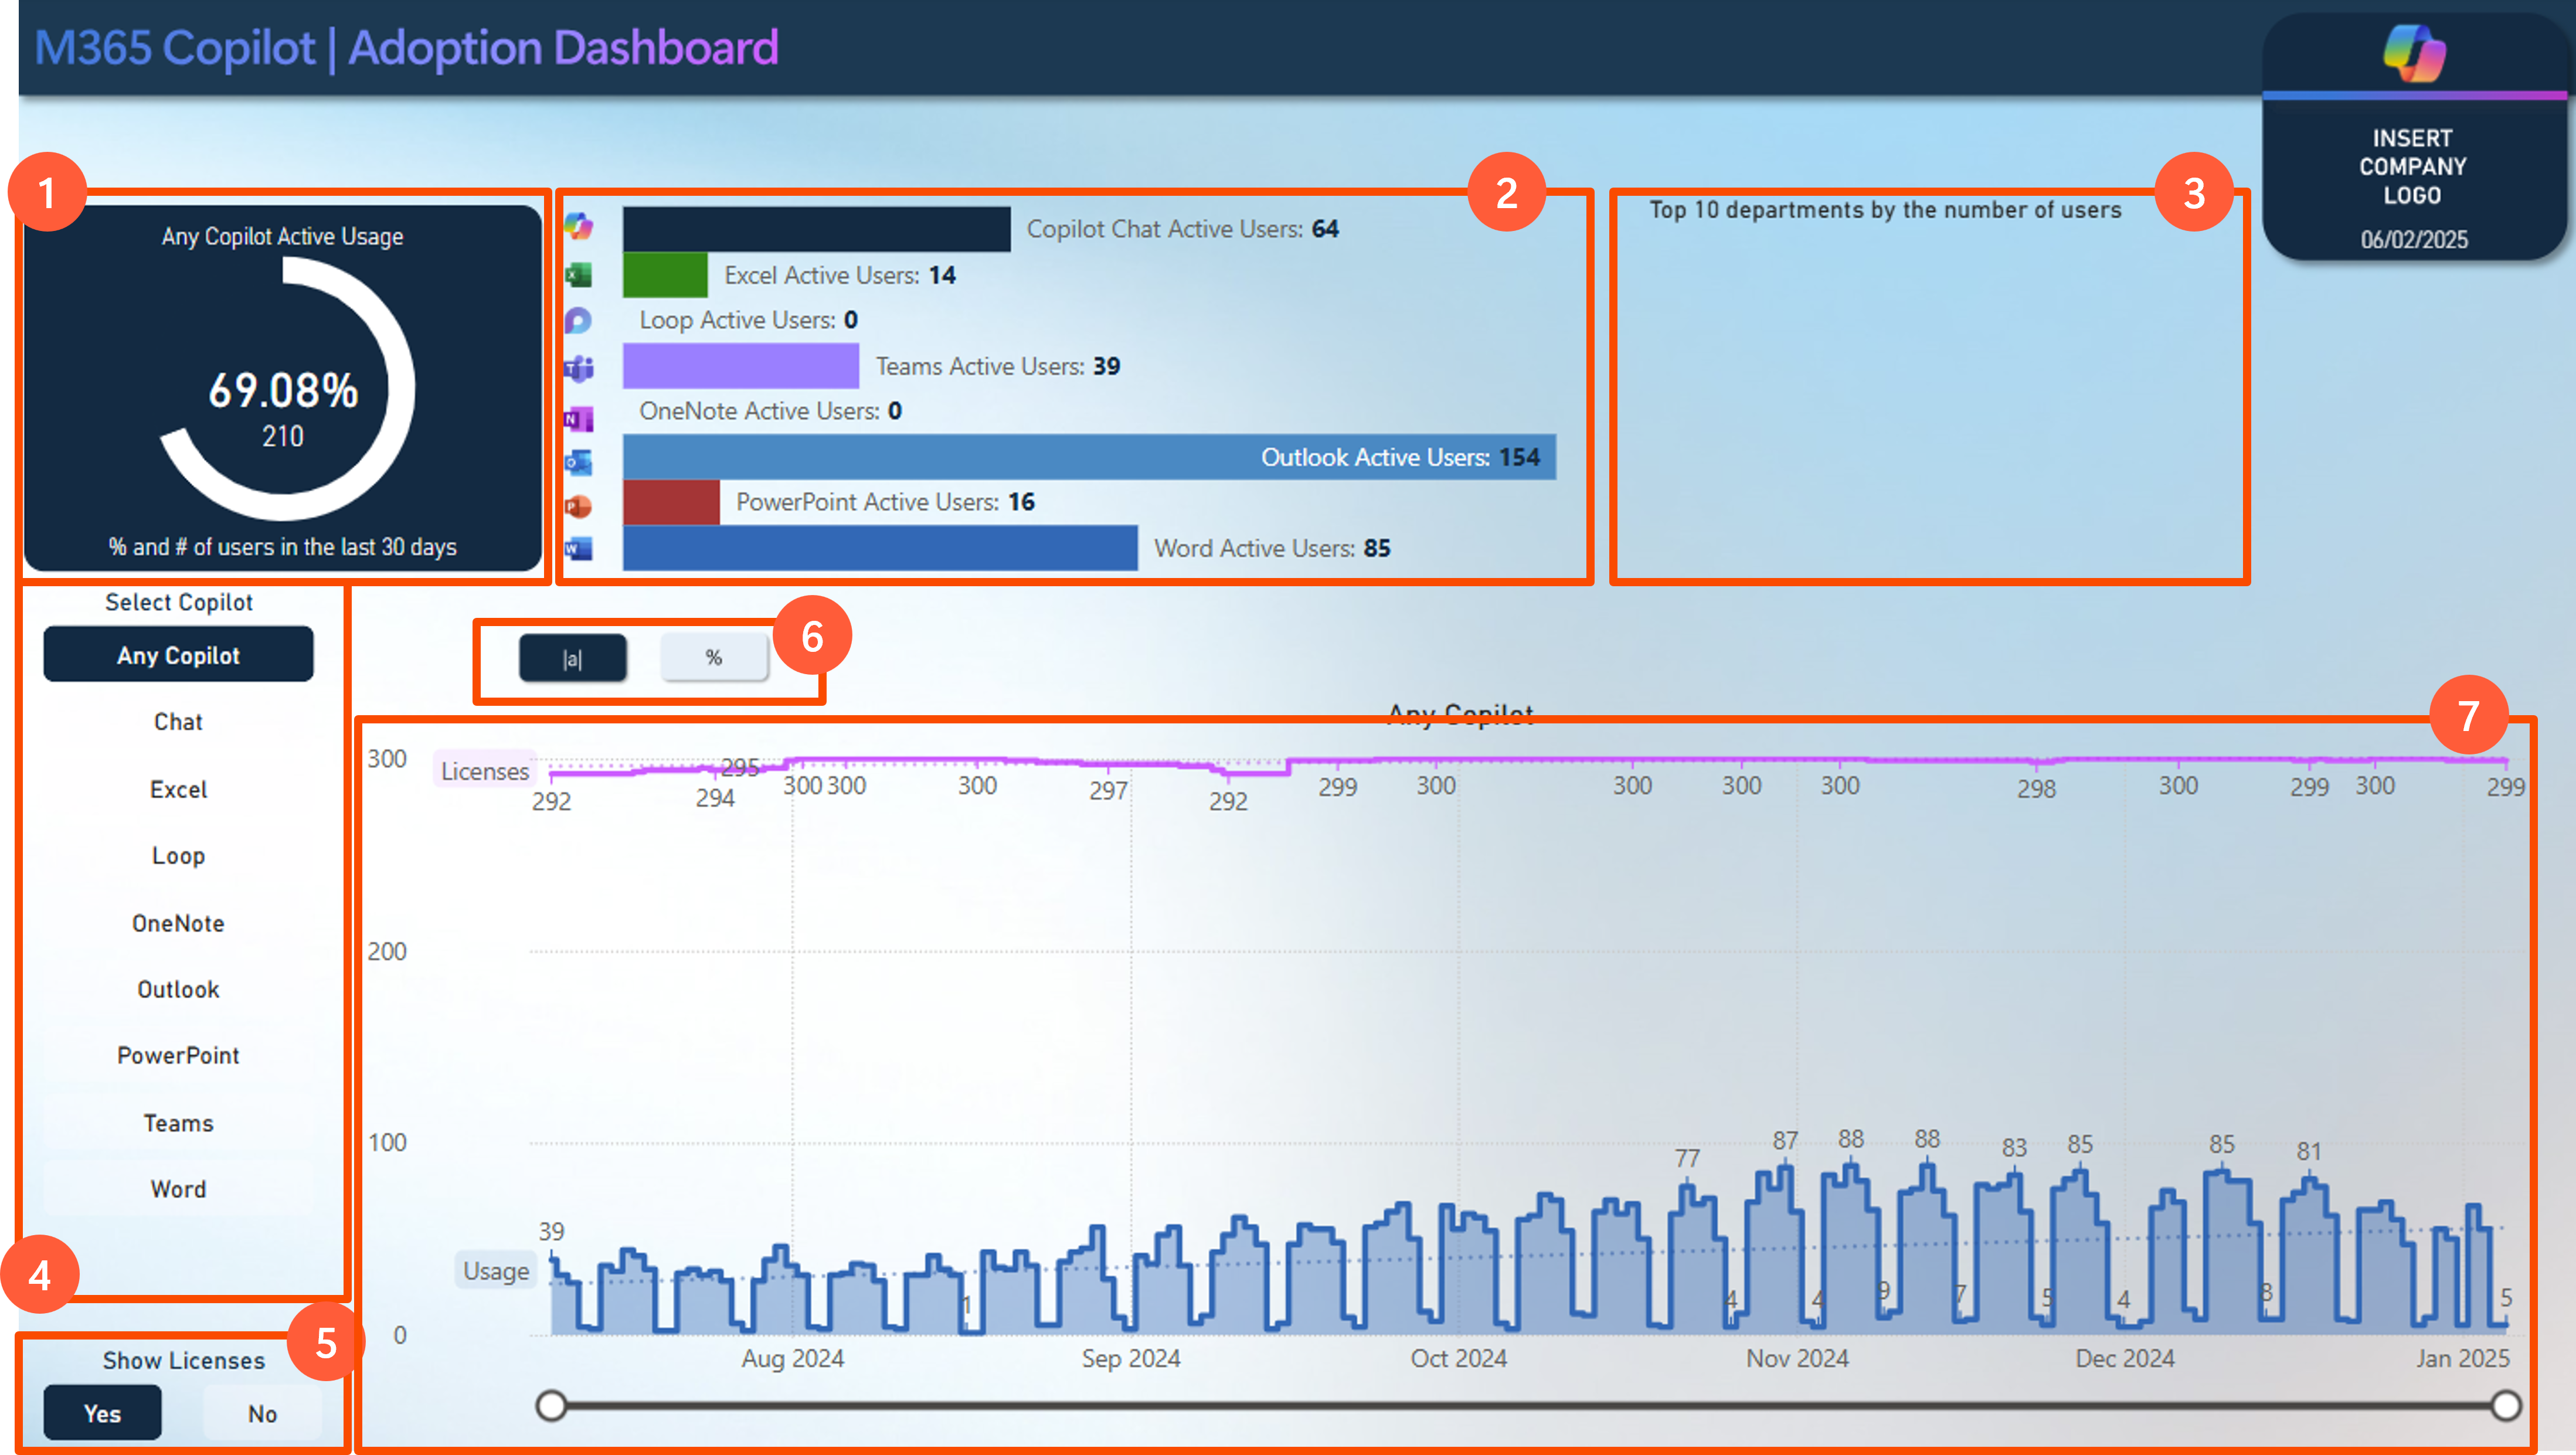

What the dashboard file says about the page in this screenshot:
{"tool":"powerbi","page":{"name":"Overview and History","canvas":[1280,720],"ordinal":0},"visuals":[{"type":"donutChart","title":"Any Copilot Active Usage","fields":{"Y":["Measures Table.1 Summary Util %","Measures Table.1 Summary Diff"]},"box":[6,103.8,256,181.4],"z":0,"group":"g1"},{"type":"image","box":[254,101.8,51.4,191.5],"z":0},{"type":"card","fields":{"Values":["Measures Table.1 Summary Util %"]},"box":[6,175.4,256,37.3],"z":1000,"group":"g1"},{"type":"clusteredBarChart","fields":{"Y":["Sum(Copilot User Count Summary.Copilot Chat Active Users)","Sum(Copilot User Count Summary.Excel Active Users)","Sum(Copilot User Count Summary.Loop Active Users)","Sum(Copilot User Count Summary.Microsoft Teams Active Users)","Sum(Copilot User Count Summary.OneNote Active Users)","Sum(Copilot User Count Summary.Outlook Active Users)","Sum(Copilot User Count Summary.PowerPoint Active Users)","Sum(Copilot User Count Summary.Word Active Users)"]},"box":[297.3,82.6,506,215.7],"z":1000},{"type":"textbox","box":[6,257,256,28.2],"z":2000,"group":"g1"},{"type":"textbox","box":[6,103.8,256,27.2],"z":3000,"group":"g1"},{"type":"lineChart","fields":{"Y":["Measures Table.1 User Selection Swith","Measures Table.1 User Selection Switch Totals"],"Category":["Copilot User Count Trend.Report Date.Variation.Date Hierarchy.Year","Copilot User Count Trend.Report Date.Variation.Date Hierarchy.Month","Copilot User Count Trend.Report Date.Variation.Date Hierarchy.Day"]},"box":[170.4,347.9,1091.9,360.8],"z":3000},{"type":"card","fields":{"Values":["Sum(Copilot User Count Summary.Any App Active Users)"]},"box":[6,202.6,256,33.3],"z":4000,"group":"g1"},{"type":"advancedSlicerVisual","fields":{"Values":["Slicer Table History.Value"]},"box":[10.6,293.8,144.6,318.5],"z":4000},{"type":"advancedSlicerVisual","fields":{"Values":["Slicer Table Totals.Value"]},"box":[10.6,668.8,149.3,51.7],"z":5000},{"type":"clusteredBarChart","title":"Top 10 departments by the number of users","fields":{"Category":["Entra ID Users.department"],"Y":["CountNonNull(Copilot User Detail.Last Activity Date)"]},"box":[804.3,99.8,458.6,247.9],"z":6000},{"type":"group","id":"g1","title":"Group 1","box":[6,103.8,256,181.4],"z":7000},{"type":"image","title":"btn Abs","box":[244.9,309.4,136.1,38.3],"z":8000},{"type":"card","fields":{"Values":["Measures Table.0 Today Label"]},"box":[1112.7,107.8,151.2,25.2],"z":10000},{"type":"image","box":[1148.3,47,79.8,79.8],"z":10001}]}

Visuals, with their boxes in screenshot pixels (x1, y1, x2, y2), scaled from the page's 1280x720 canvas onto the 2576x1455 screenshot:
"Any Copilot Active Usage" donutChart: BBox(12, 210, 527, 576)
image: BBox(511, 206, 614, 593)
card - Measures Table.1 Summary Util %: BBox(12, 355, 527, 430)
clusteredBarChart - Sum(Copilot User Count Summary.Copilot Chat Active Users) x Sum(Copilot User Count Summary.Excel Active Users): BBox(599, 167, 1617, 603)
textbox: BBox(12, 519, 527, 576)
textbox: BBox(12, 210, 527, 265)
lineChart - Measures Table.1 User Selection Swith x Measures Table.1 User Selection Switch Totals: BBox(343, 703, 2540, 1432)
card - Sum(Copilot User Count Summary.Any App Active Users): BBox(12, 409, 527, 477)
advancedSlicerVisual - Slicer Table History.Value: BBox(21, 594, 312, 1238)
advancedSlicerVisual - Slicer Table Totals.Value: BBox(21, 1352, 322, 1454)
"Top 10 departments by the number of users" clusteredBarChart: BBox(1619, 202, 2541, 703)
"Group 1" group: BBox(12, 210, 527, 576)
"btn Abs" image: BBox(493, 625, 767, 703)
card - Measures Table.0 Today Label: BBox(2239, 218, 2544, 268)
image: BBox(2311, 95, 2472, 256)
